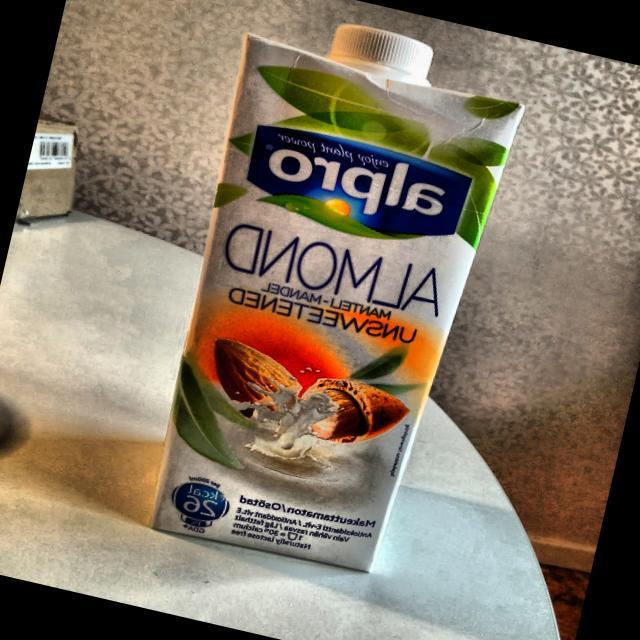cardboard: (133, 25, 530, 588)
